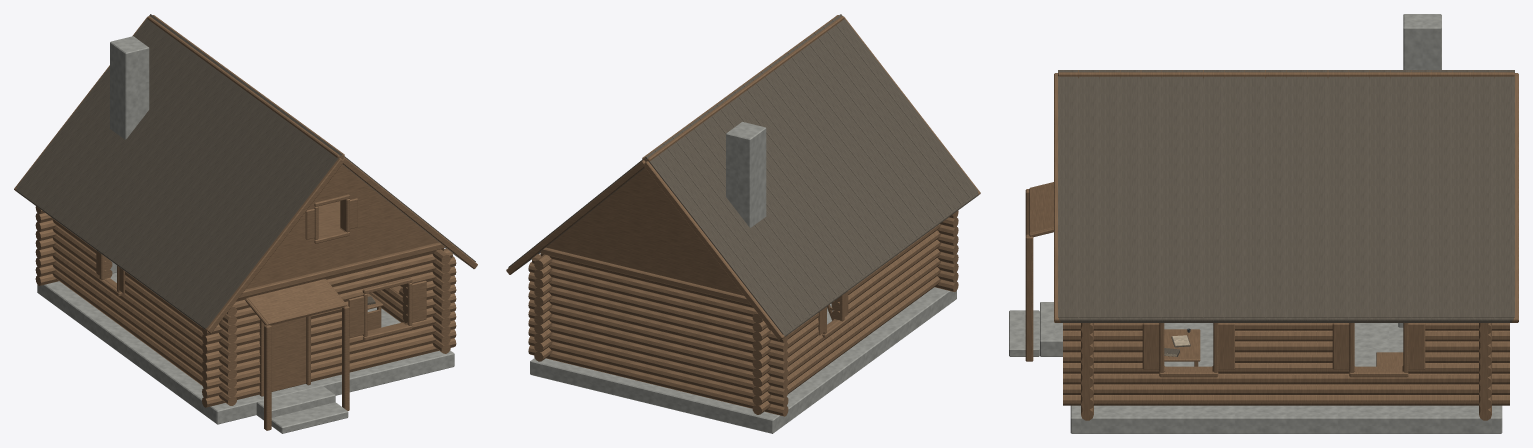
Rendered from h01_counting.glb.
3 views of the same model, side by side, from view 1: azimuth 30°, elevation 25°; view 2: azimuth 150°, elevation 25°; view 3: azimuth 270°, elevation 25° (orthographic). The views are drawn at different scales.
Visible parts, largest first — view 1: H01_roof_left, H01_wall_front, H01_foundation, H01_wall_left, H01_gable_front, H01_entry_canopy, H01_chimney, H01_verge_-1_-1, H01_entry_leaf0, H01_wall_right, H01_ridge, H01_wall_rear (+4 smaller); view 2: H01_roof_left, H01_wall_rear, H01_gable_rear, H01_wall_left, H01_foundation, H01_chimney, H01_verge_1_-1, H01_wall_right, H01_ridge, H01_wall_front, H01_roof_right; view 3: H01_roof_right, H01_wall_right, H01_foundation, H01_entry_canopy, H01_ridge, H01_chimney, H01_wall_front, H01_wall_rear, H01_verge_1_-1, H01_verge_-1_-1, desk_top, H01_living_right_shutterl (+3 smaller).
Part boxes in pixels (box(x1,y1,x2,y2)): H01_roof_left: box(16, 14, 341, 329); H01_wall_front: box(202, 194, 456, 407); H01_foundation: box(37, 281, 454, 433); H01_wall_left: box(52, 219, 236, 405); H01_gable_front: box(245, 164, 438, 289); H01_entry_canopy: box(245, 279, 349, 430); H01_chimney: box(110, 36, 149, 139); H01_verge_-1_-1: box(205, 157, 477, 333); H01_entry_leaf0: box(271, 317, 306, 391); H01_wall_right: box(369, 249, 450, 353); H01_ridge: box(147, 15, 344, 158); H01_wall_rear: box(35, 206, 58, 285); H01_roof_left: box(645, 14, 978, 336); H01_wall_rear: box(528, 247, 788, 416); H01_gable_rear: box(546, 168, 743, 295); H01_wall_left: box(752, 224, 941, 414); H01_foundation: box(530, 287, 956, 433); H01_chimney: box(726, 122, 766, 227); H01_verge_1_-1: box(506, 160, 785, 340); H01_wall_right: box(534, 254, 552, 361); H01_ridge: box(642, 15, 844, 161); H01_wall_front: box(934, 210, 958, 291); H01_roof_right: box(508, 14, 840, 271); H01_roof_right: box(1058, 70, 1514, 322); H01_wall_right: box(1063, 323, 1509, 405); H01_foundation: box(1009, 302, 1502, 433); H01_entry_canopy: box(1025, 182, 1053, 361); H01_ridge: box(1058, 70, 1514, 78); H01_chimney: box(1403, 14, 1441, 69); H01_wall_front: box(1081, 323, 1093, 420); H01_wall_rear: box(1479, 323, 1491, 420); H01_verge_1_-1: box(1512, 73, 1518, 322); H01_verge_-1_-1: box(1054, 73, 1060, 322); desk_top: box(1164, 329, 1200, 366); H01_living_right_shutterl: box(1142, 323, 1159, 369).
Size of the model in its own units: 7.28 by 6.65 by 9.93.
5 materials, 4 textured.
